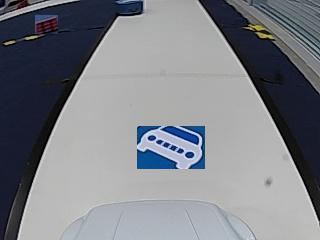prop: (116, 1, 143, 16)
